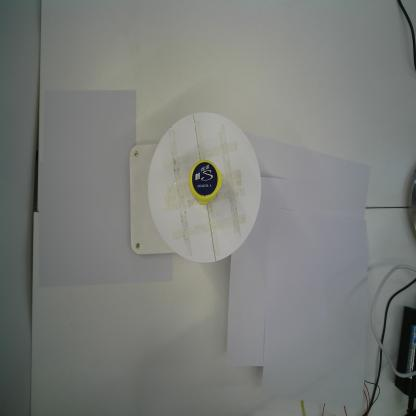Gum: (189, 159, 222, 205)
